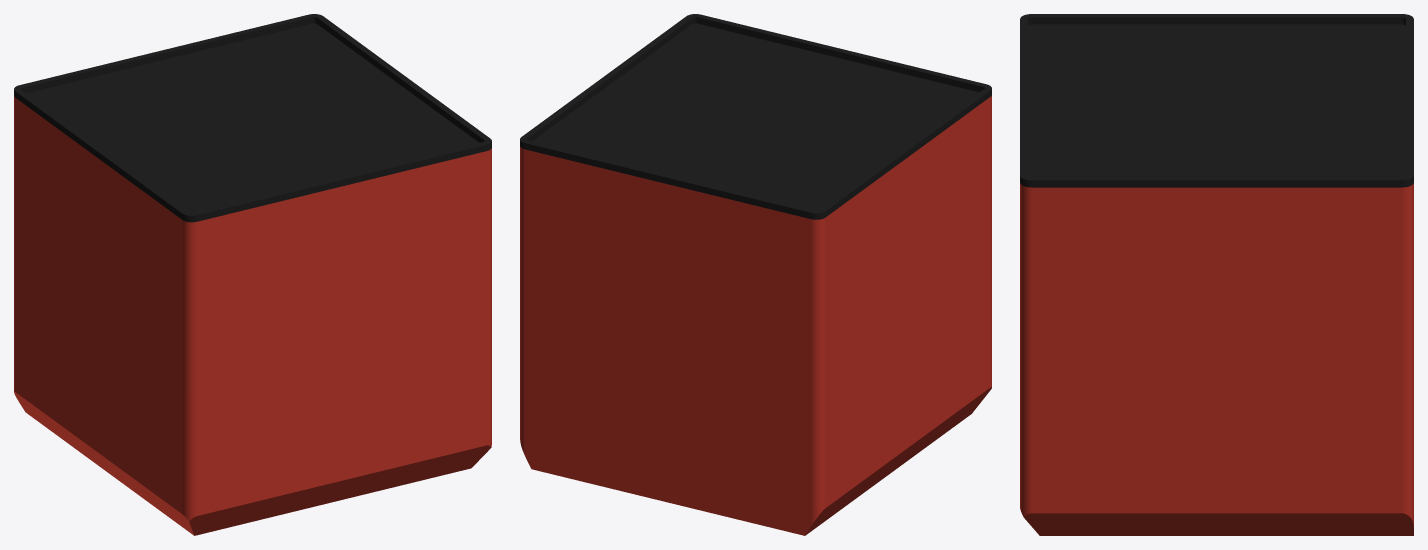
Rendered from mail.fbx.
The picture shows the model from 3 angles, left to right: view 1: azimuth 30°, elevation 25°; view 2: azimuth 150°, elevation 25°; view 3: azimuth 270°, elevation 25°; orthographic projection. The views are drawn at different scales.
Visible parts, largest first — view 1: Body1 (×2); view 2: Body1 (×2); view 3: Body1 (×2).
Boxes of the visible parts, x1,y1,x2,y2 form: Body1 (×2): [14, 14, 491, 535]; Body1 (×2): [520, 14, 991, 535]; Body1 (×2): [1020, 14, 1413, 535].
Size of the model in its own units: 100 by 102 by 100.
